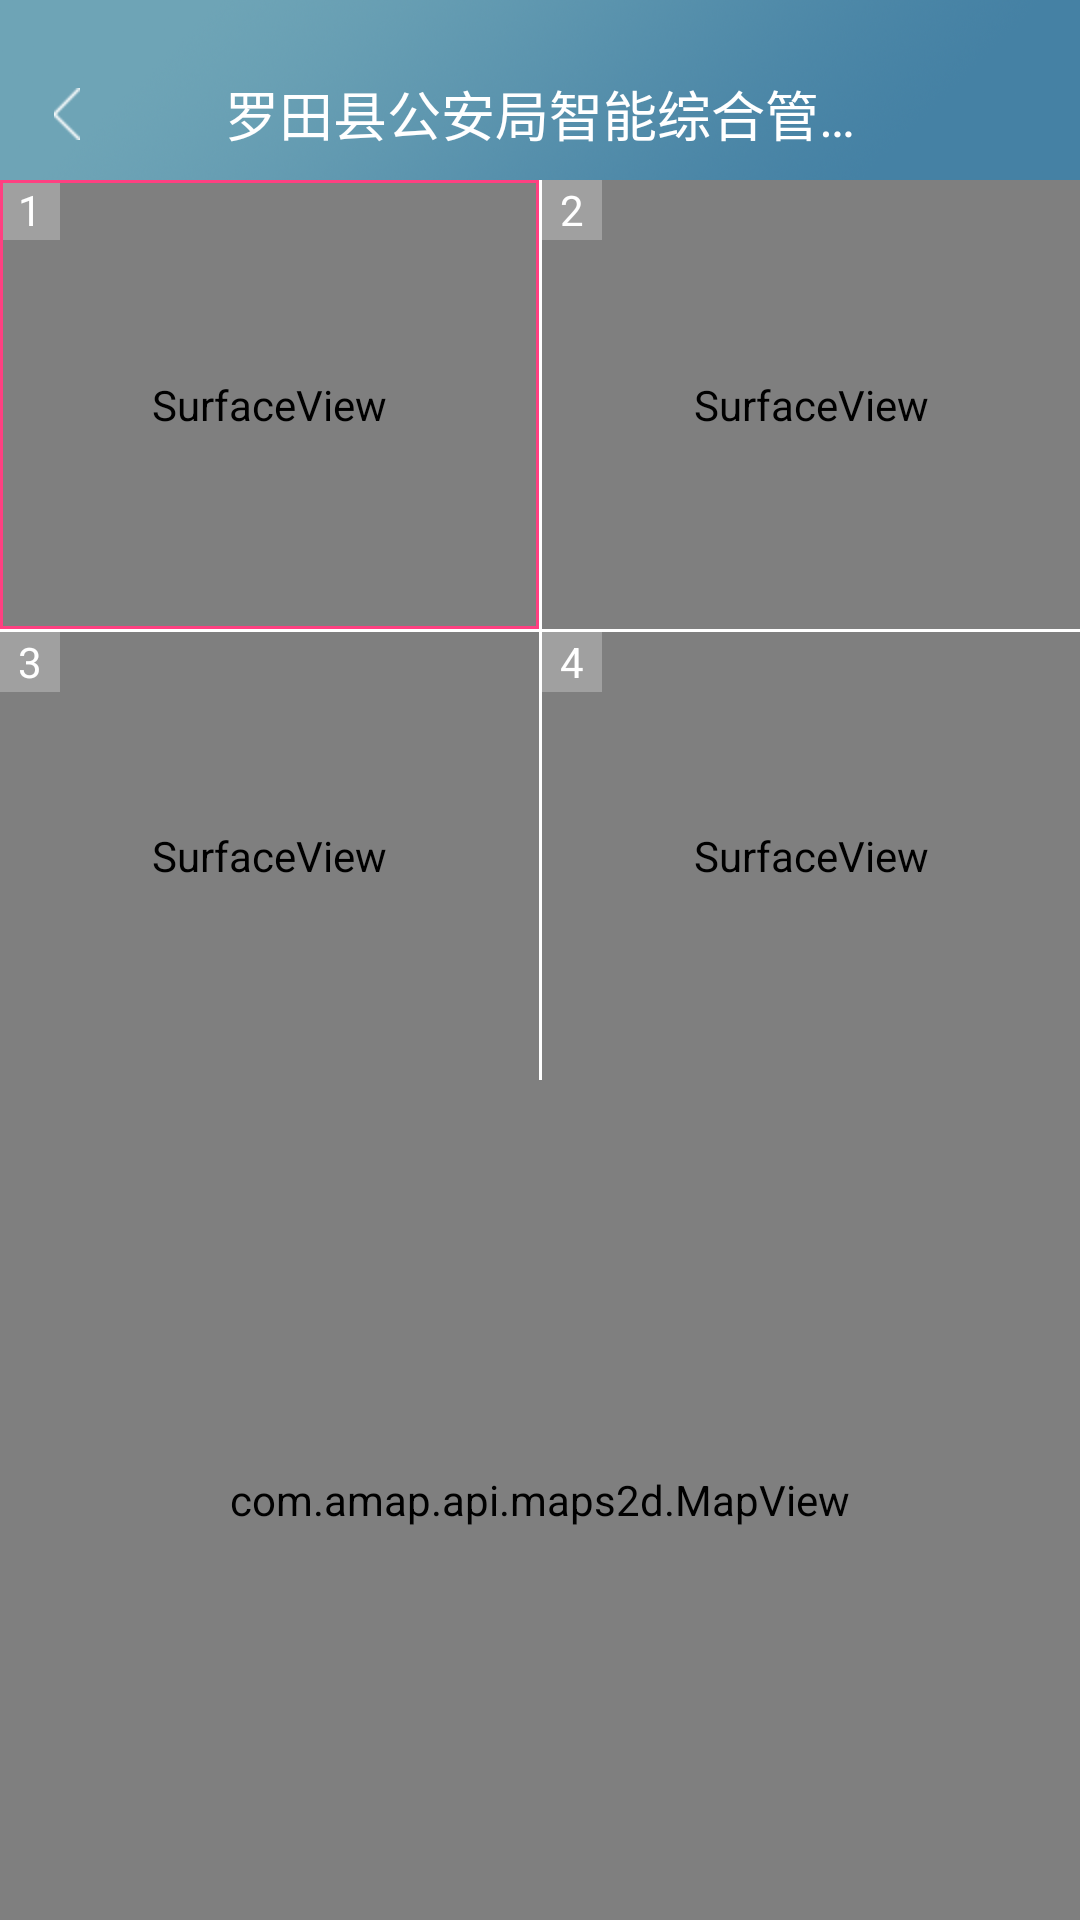

Point at icon controls on the screen. Image size 1080px x 1920px, points as (x,y).
back: (67,114)
